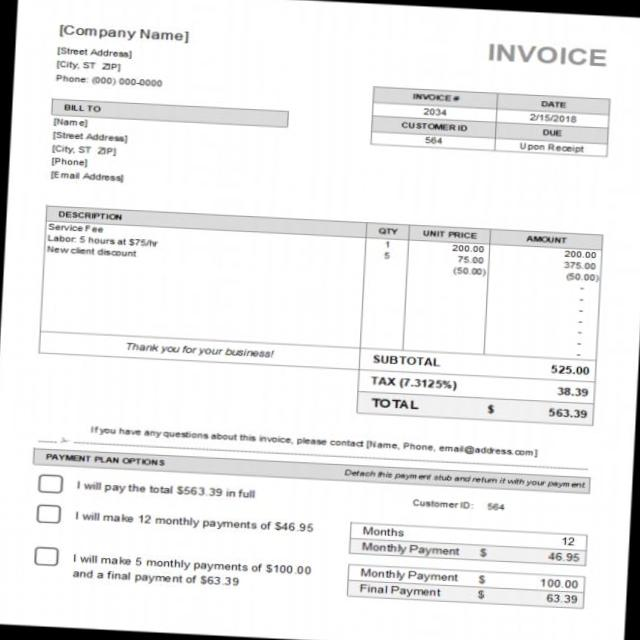customer_address: (49, 128, 129, 156)
customer_name: (51, 116, 93, 128)
invoice_date: (526, 112, 583, 125)
invoice_number: (420, 105, 450, 118)
invoice_subtotal: (545, 359, 594, 378)
invoice_total: (540, 403, 594, 421)
item_description: (46, 222, 162, 266)
item_quantity: (376, 238, 397, 262)
item_total_price: (560, 248, 601, 284)
item_unit_price: (444, 238, 486, 276)
supplier_address: (52, 44, 134, 74)
supplier_name: (55, 23, 206, 44)
tax_amount: (552, 383, 594, 399)
